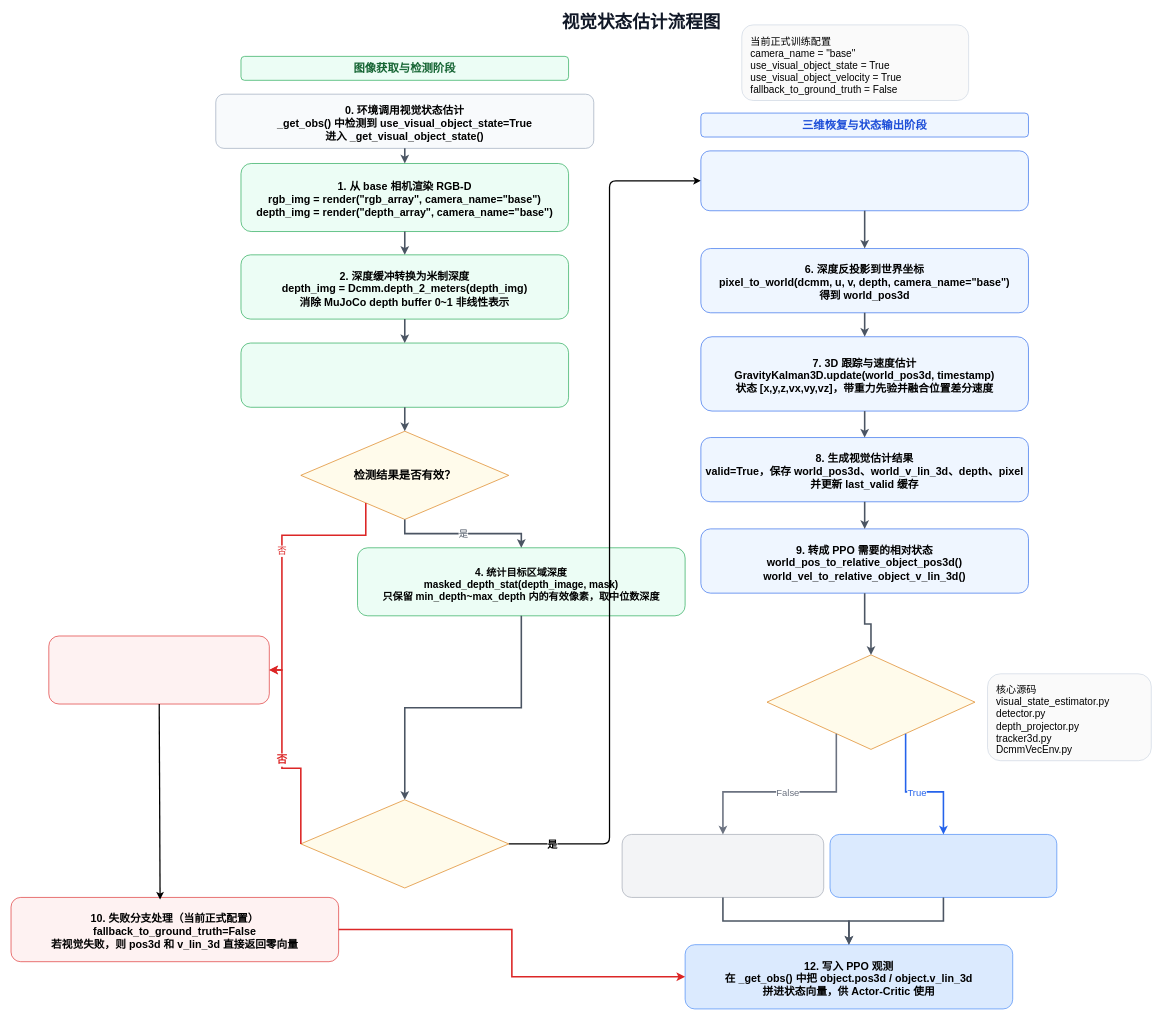
This 1162x1020 diagram has some shape labels left out. Here are the shapes that lost their labels. From the top down, the centre of each, then its label:
(864,180): 5. 提取像素中心 u, v = det["centroid"] 作为目标在图像平面的二维位置
(404,374): 3. 红色目标检测 RedObjectDetector.detect(rgb_image) HSV 阈值分割 + 开闭运算 + 最大轮廓筛选
(158,669): 返回 fallback 状态 若 last_valid 存在则复用上一次结果 否则返回全零 world_pos3d / world_v_lin_3d
(870,701): use_visual_object_velocity 是否为 True？
(404,843): 深度是否有效？
(722,865): 11B. 仅输出视觉位置 object.pos3d = visual pos3d object.v_lin_3d = 0 向量
(943,865): 11A. 输出视觉位置 + 视觉速度 object.pos3d = visual pos3d object.v_lin_3d = visual v_lin_3d
